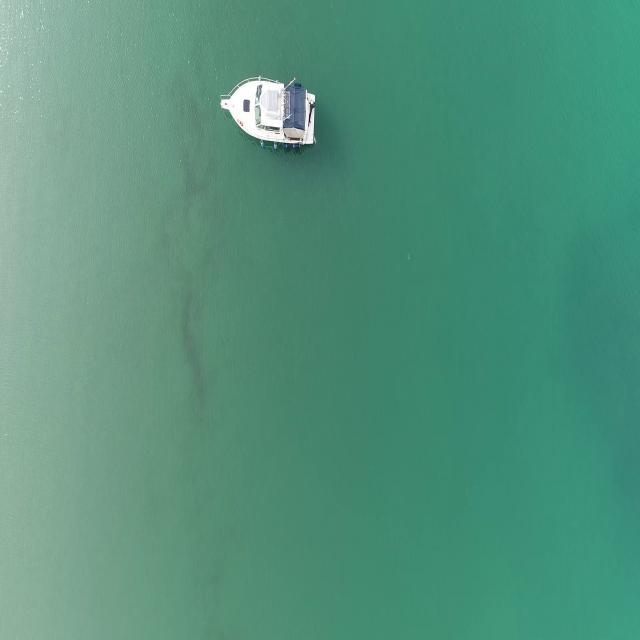boat: (218, 74, 318, 152)
